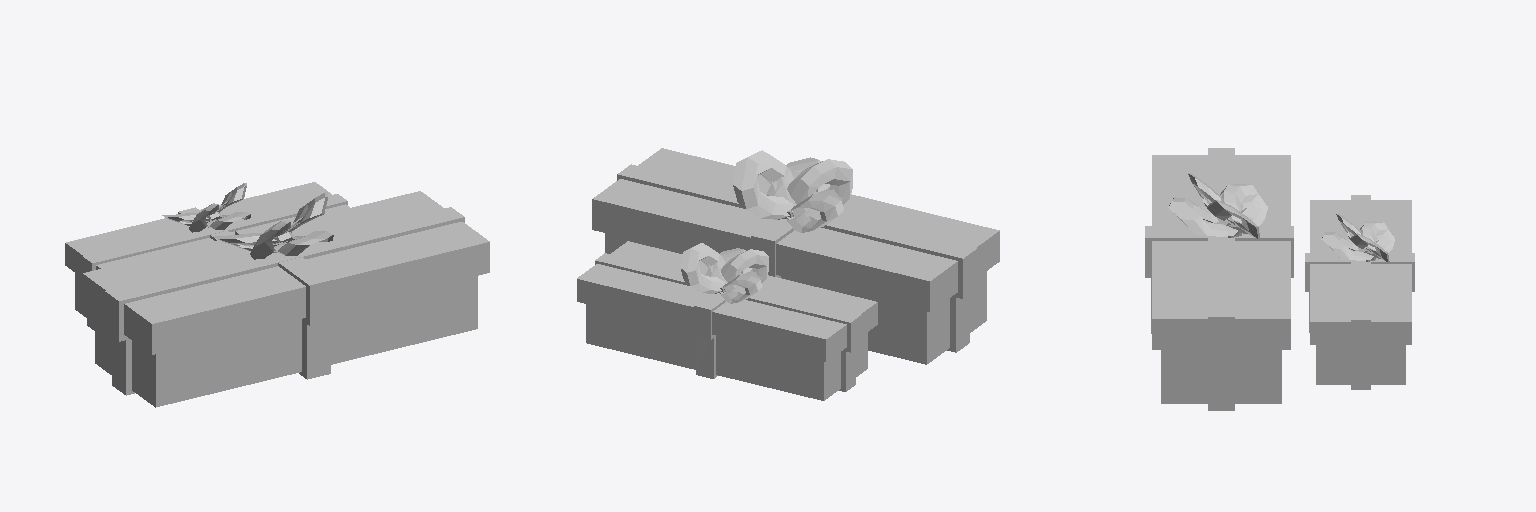
File: gifts.obj
3 renders of one model, left to right at view 1: azimuth 30°, elevation 25°; view 2: azimuth 150°, elevation 25°; view 3: azimuth 270°, elevation 25°, orthographic.
Size of the model in its own units: 2.18 by 0.8823 by 1.47.